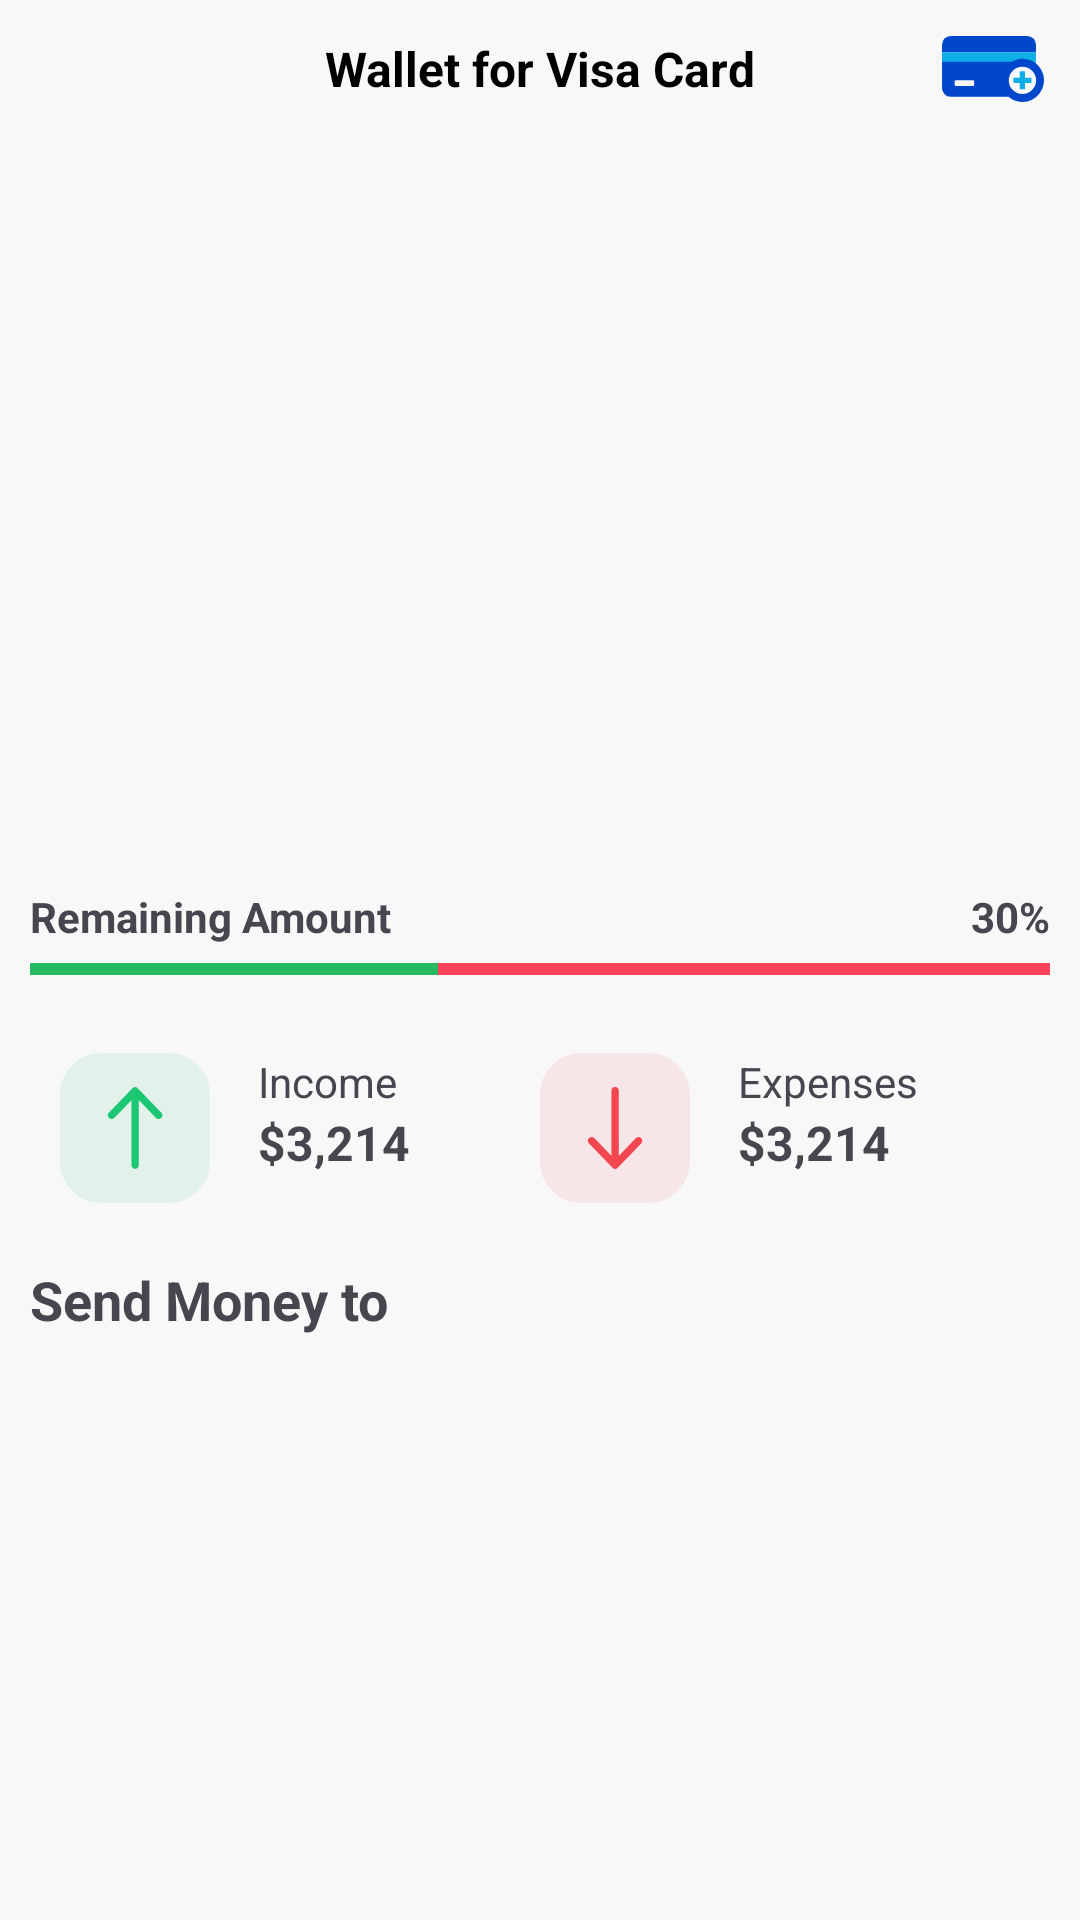

Icon click points for this 1080px×1920px phone screenshot, format point (x, y):
addcard: point (993, 69)
down: point (615, 1128)
